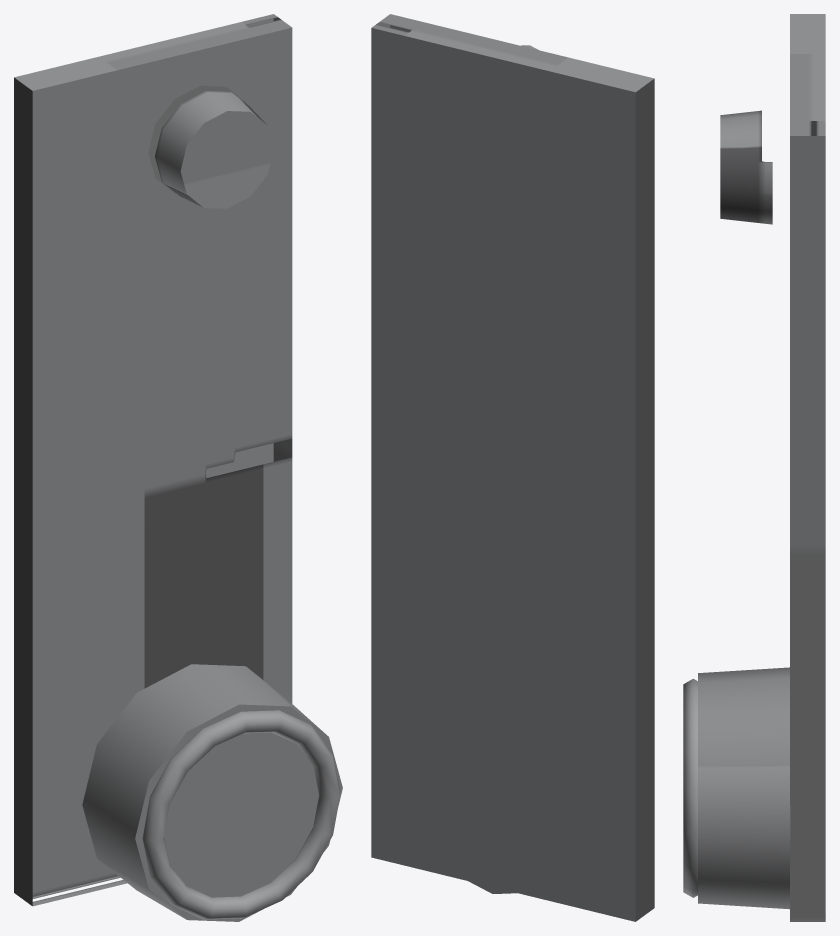
3 renders of one model, left to right at view 1: azimuth 30°, elevation 25°; view 2: azimuth 150°, elevation 25°; view 3: azimuth 270°, elevation 25°, orthographic. The views are drawn at different scales.
Size of the model in its own units: 0.2784 by 0.8346 by 0.133.
